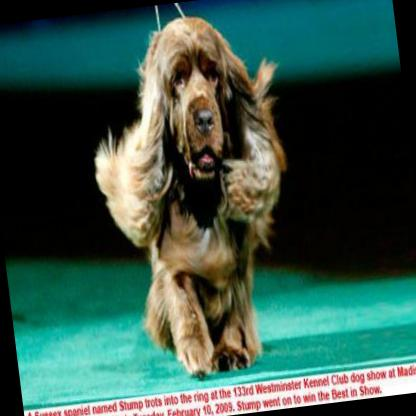Sussex_spaniel: (76, 3, 316, 388)
